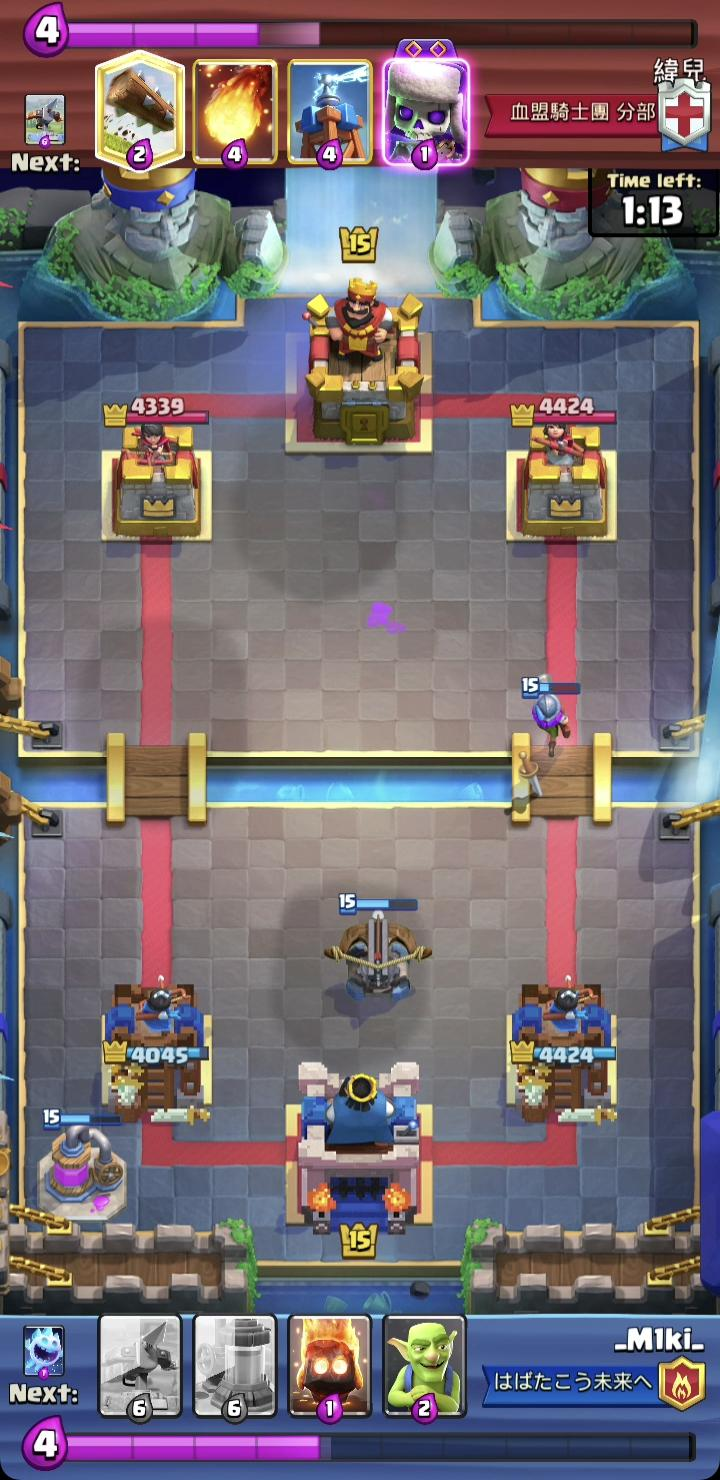ally_elixirpump: (35, 1108, 129, 1226)
ally_musketeer: (520, 671, 578, 758)
ally_xbow: (322, 894, 435, 999)
